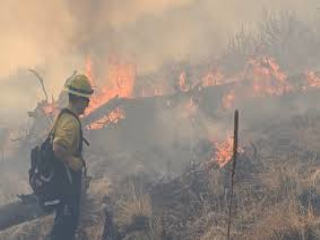fire: (88, 57, 315, 114)
